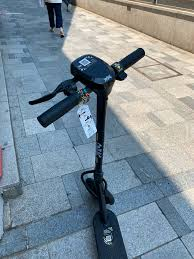kick_body: (93, 212, 125, 259)
kick_handler: (29, 46, 145, 126)
kick_neck: (94, 100, 105, 177)
